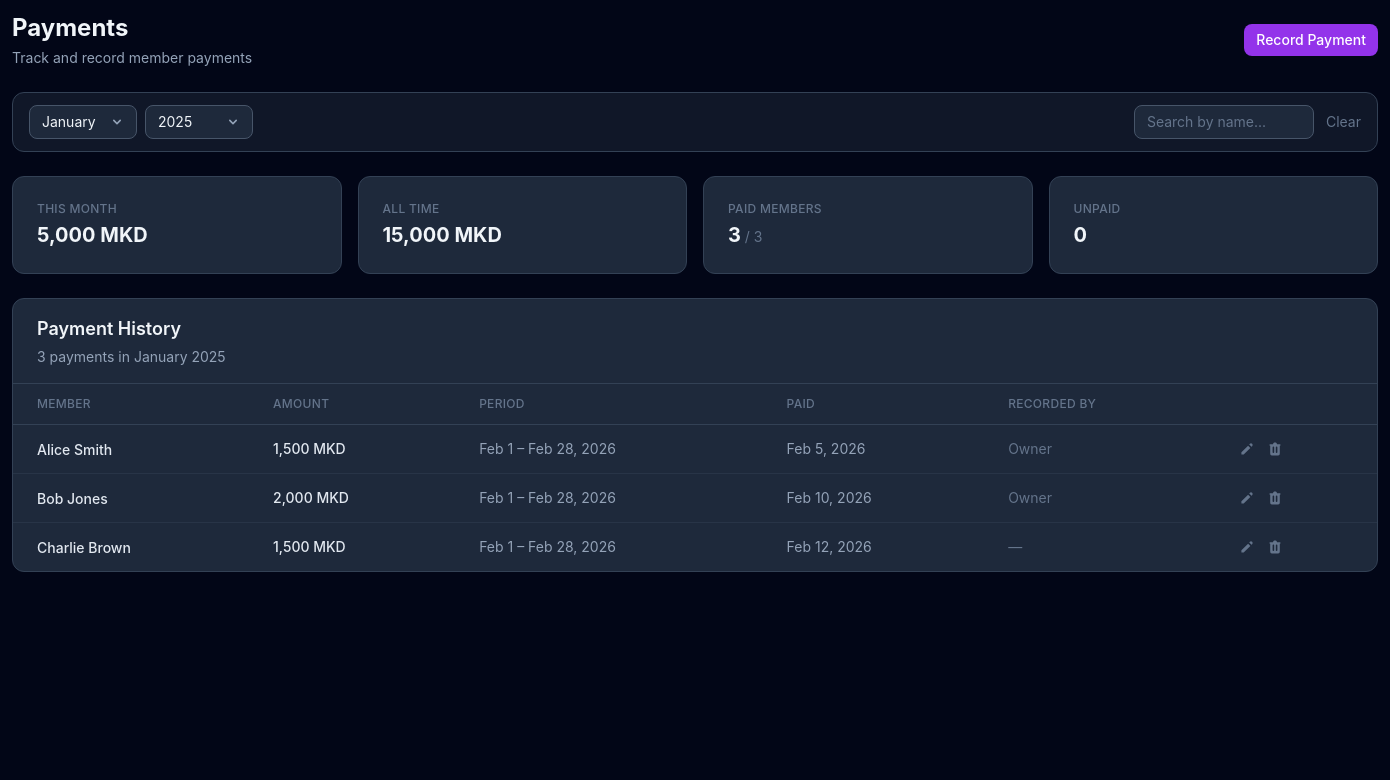
Test case: PaymentsClient › Clear Filters › fetches payments for current month and resets search on Clear click
Type "test" into the field named "Search payments by member name" at (1224, 122), box [1134, 105, 1314, 139]
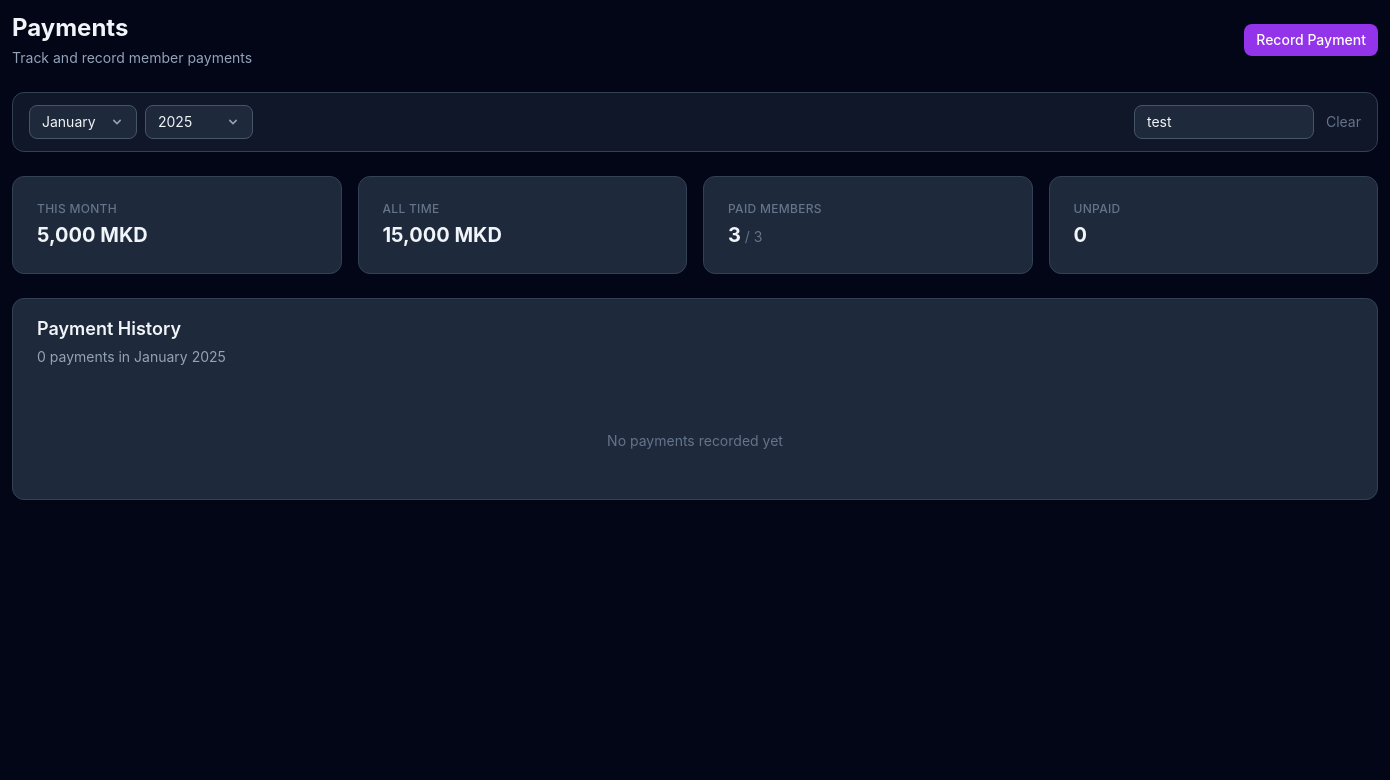
Note: Clear button should be visible (month differs from current)
Click the button "Clear" at (1343, 122), box [1326, 112, 1361, 132]
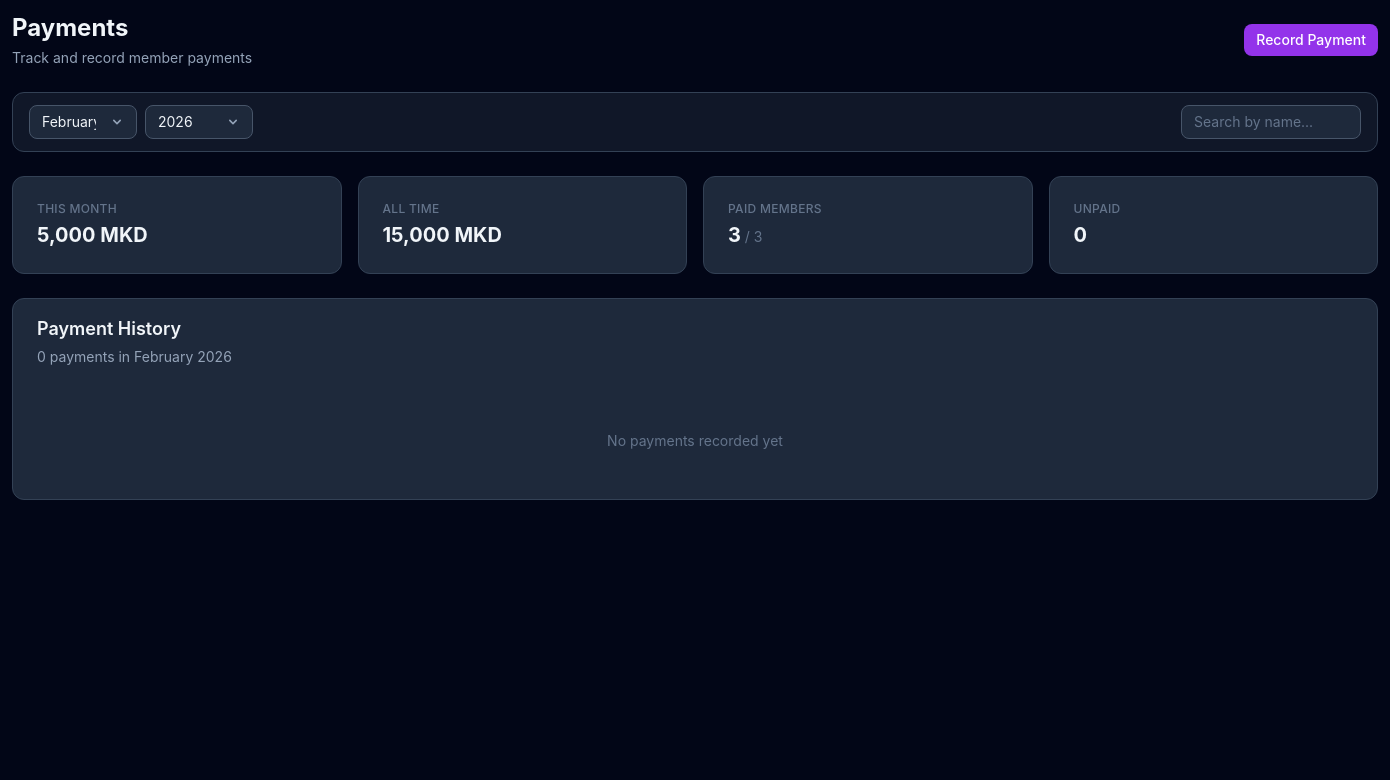
Expected: the field named "Search payments by member name" is empty, [1181, 105, 1361, 139]
Expected: the dropdown named "Filter by month" shows "February", [29, 105, 137, 139]
Expected: the dropdown named "Filter by year" shows "2026", [145, 105, 253, 139]
